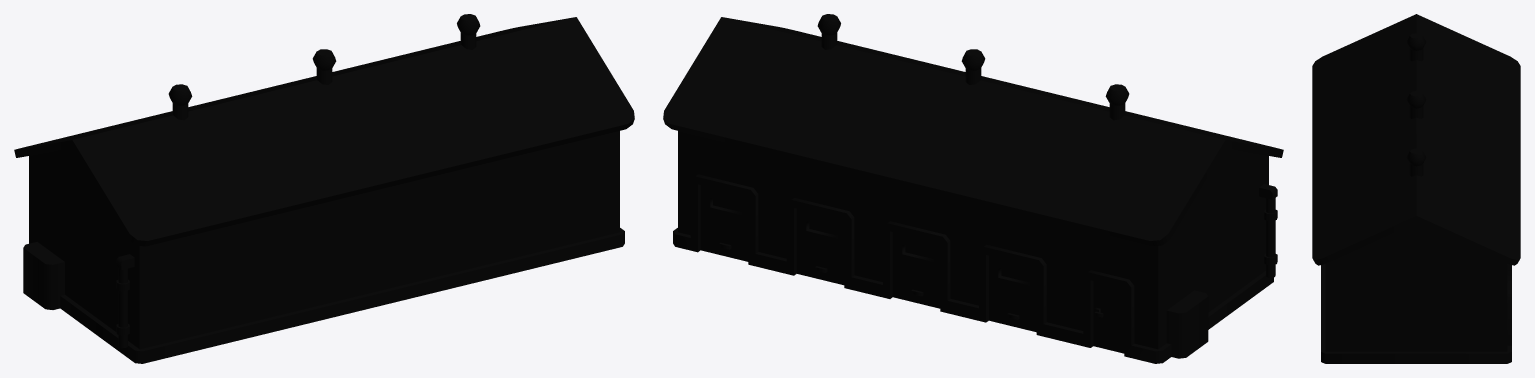
File: building-s.glb
3 renders of one model, left to right at view 1: azimuth 30°, elevation 25°; view 2: azimuth 150°, elevation 25°; view 3: azimuth 270°, elevation 25°, orthographic. The views are drawn at different scales.
Visible parts, largest first — view 1: building-s; view 2: building-s; view 3: building-s.
Part boxes in pixels (x1=…): building-s: x1=14, y1=14, x2=634, y2=363; building-s: x1=663, y1=14, x2=1283, y2=363; building-s: x1=1312, y1=14, x2=1520, y2=363.
Size of the model in its own units: 2.12 by 0.8368 by 0.9162.
1 material, 1 textured.
